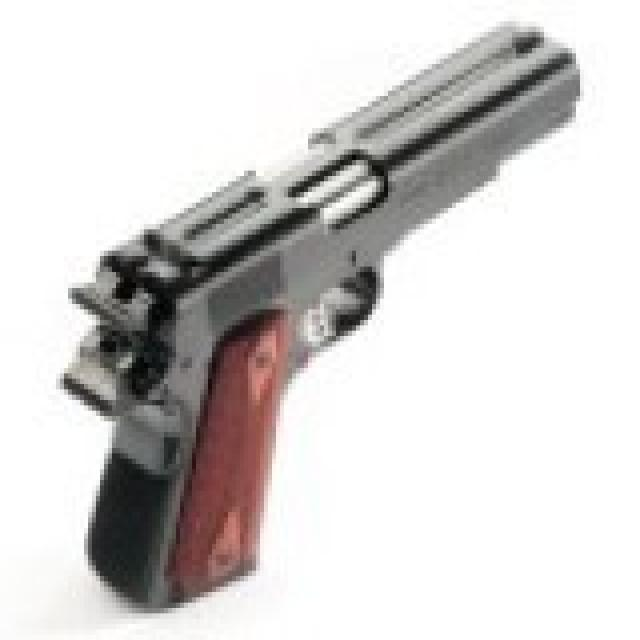Gun: (37, 18, 604, 617)
